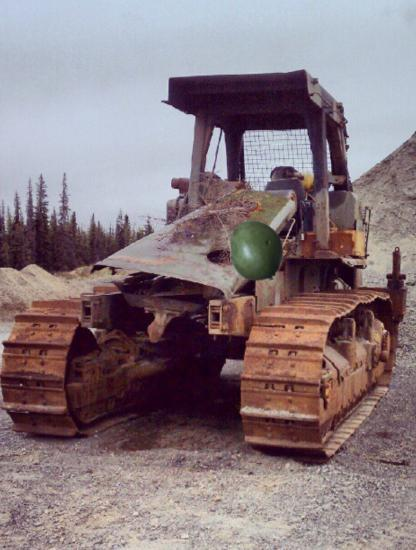Mango: (225, 219, 290, 284)
